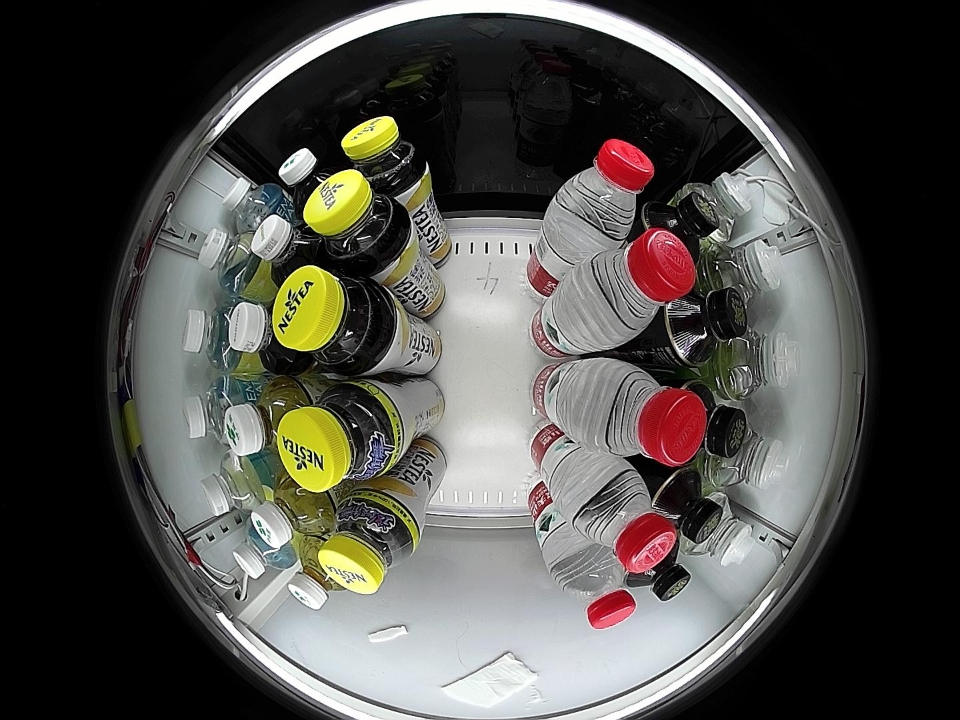baicha: (224, 376, 309, 458), (250, 477, 336, 548), (289, 543, 347, 610)
chacui: (278, 378, 405, 491), (273, 266, 394, 375), (305, 169, 410, 277), (321, 490, 420, 593), (342, 116, 427, 194)
damaicha: (279, 147, 342, 213)
jianjiao: (708, 417, 789, 491), (719, 329, 797, 400), (682, 172, 752, 244), (709, 241, 783, 309), (687, 495, 754, 568)
nongfushanquan: (566, 228, 695, 348), (579, 361, 706, 466), (569, 464, 676, 573), (552, 138, 655, 242), (554, 549, 637, 630)
qinningshui: (182, 301, 246, 373), (198, 228, 265, 296), (200, 453, 270, 517), (183, 376, 242, 444), (232, 524, 296, 579), (221, 177, 284, 232)
rancha-1: (663, 287, 748, 366), (653, 467, 723, 543), (682, 381, 747, 458), (641, 191, 720, 252), (627, 548, 691, 601)
wulongcha: (229, 300, 303, 372), (251, 215, 323, 279)
